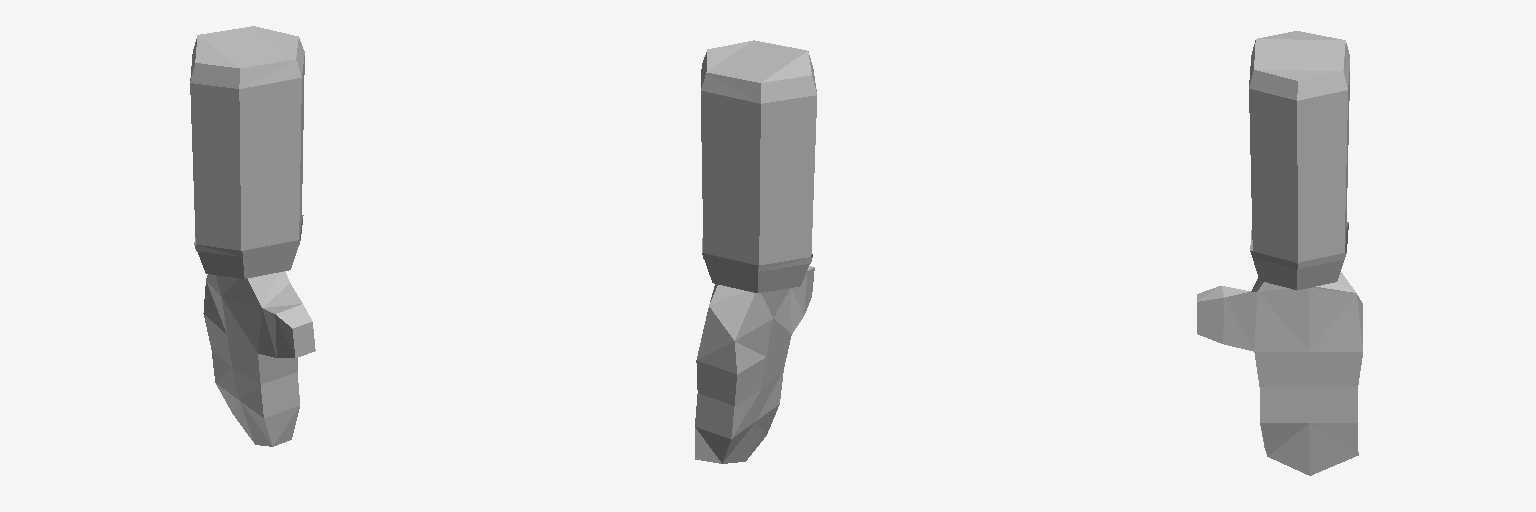
File: astronauta_reloded_rightarmbot.obj
3 renders of one model, left to right at view 1: azimuth 30°, elevation 25°; view 2: azimuth 150°, elevation 25°; view 3: azimuth 270°, elevation 25°, orthographic.
Visible parts, largest first — view 1: Astronauta_Cubo.001; view 2: Astronauta_Cubo.001; view 3: Astronauta_Cubo.001.
Boxes of the visible parts, x1=… form: Astronauta_Cubo.001: x1=190, y1=26, x2=315, y2=446; Astronauta_Cubo.001: x1=695, y1=40, x2=816, y2=463; Astronauta_Cubo.001: x1=1197, y1=31, x2=1362, y2=475.
Bounding box in the file's own units: 0.0917 × 0.3093 × 0.115.